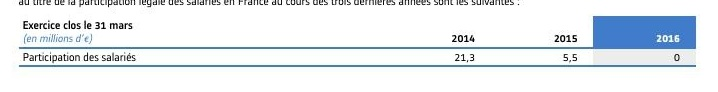table: (0, 0, 718, 92)
